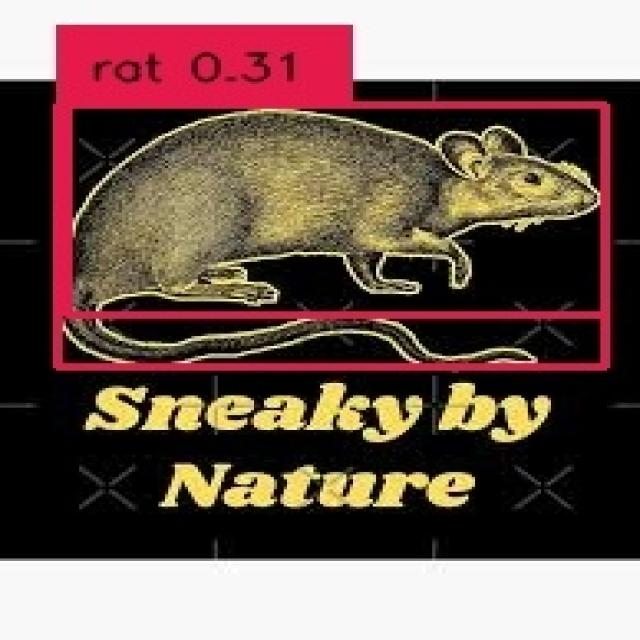rat: (53, 102, 600, 364), (63, 101, 600, 312)
